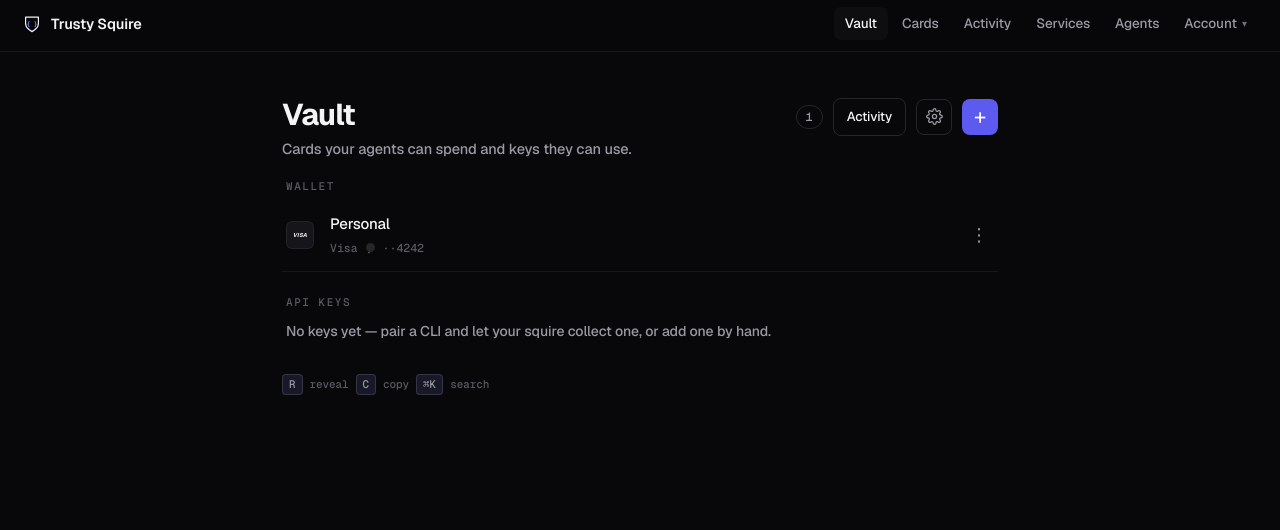
card detail view › hide collapses the revealed values back to the mask
Check: the text "Personal" is shown, box 330,214 -> 390,233
Click the button with aria-label "Details for Personal".
click(360, 224)  # box 330,213 -> 948,256
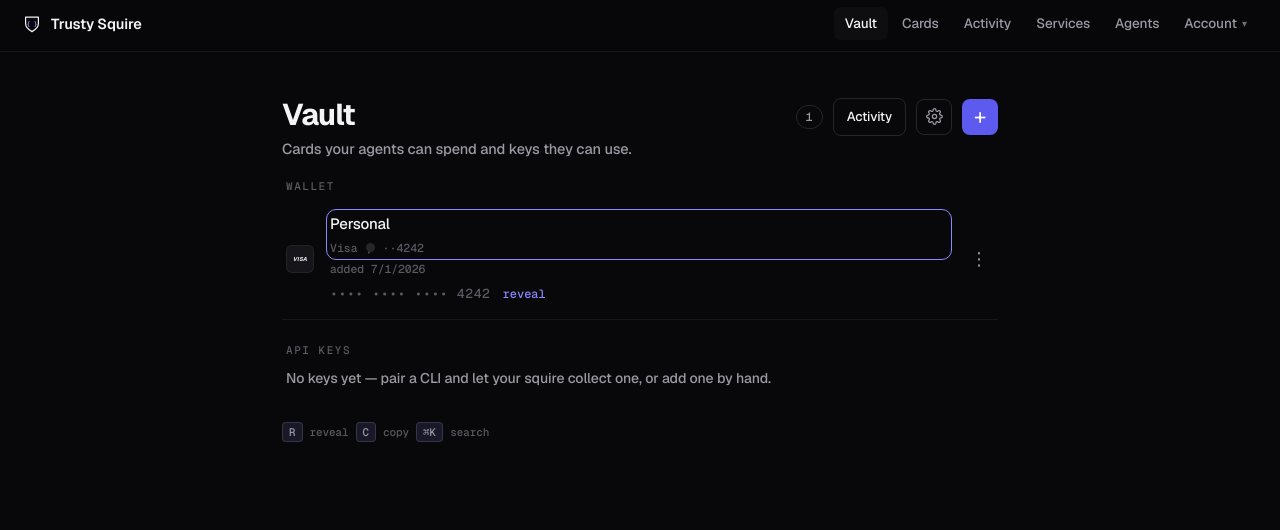
Click the button "reveal".
click(524, 294)  # box 503,285 -> 546,303
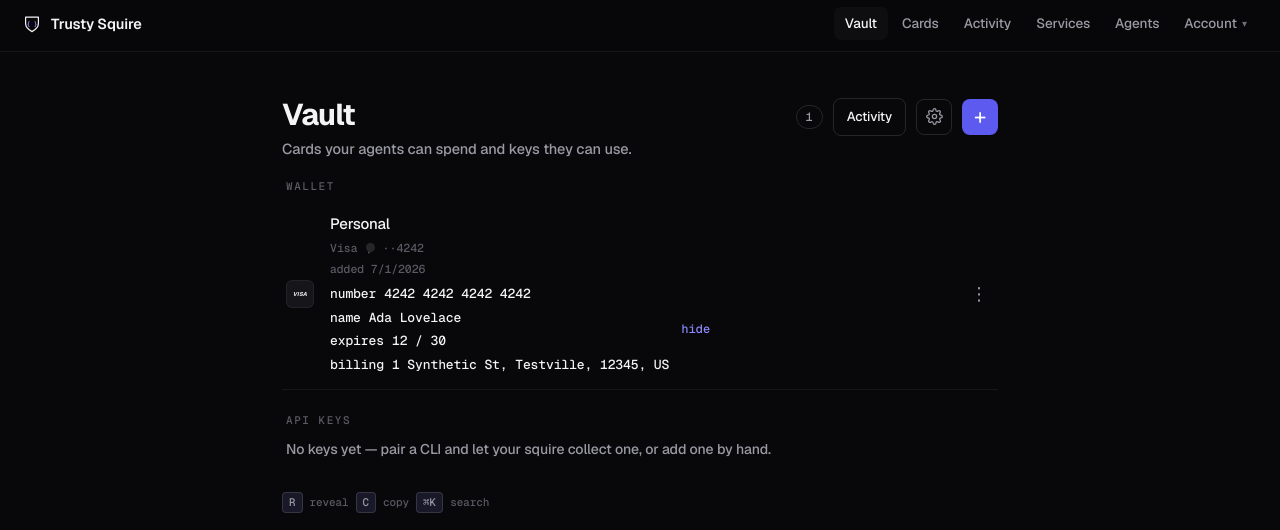
Check: the text "4242 4242 4242 4242" is shown, box 384,284 -> 531,304
Click the button "hide".
click(696, 329)  # box 681,320 -> 710,338
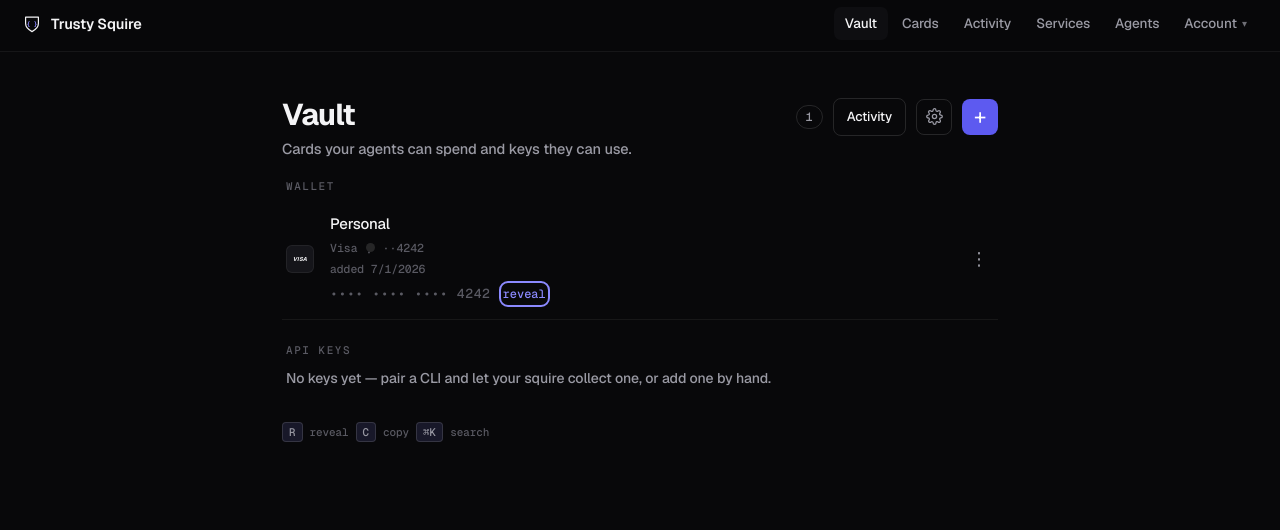
Check: the text "4242 4242 4242 4242" is gone
Check: the text "•••• •••• •••• 4242" is shown, box 330,284 -> 491,304
